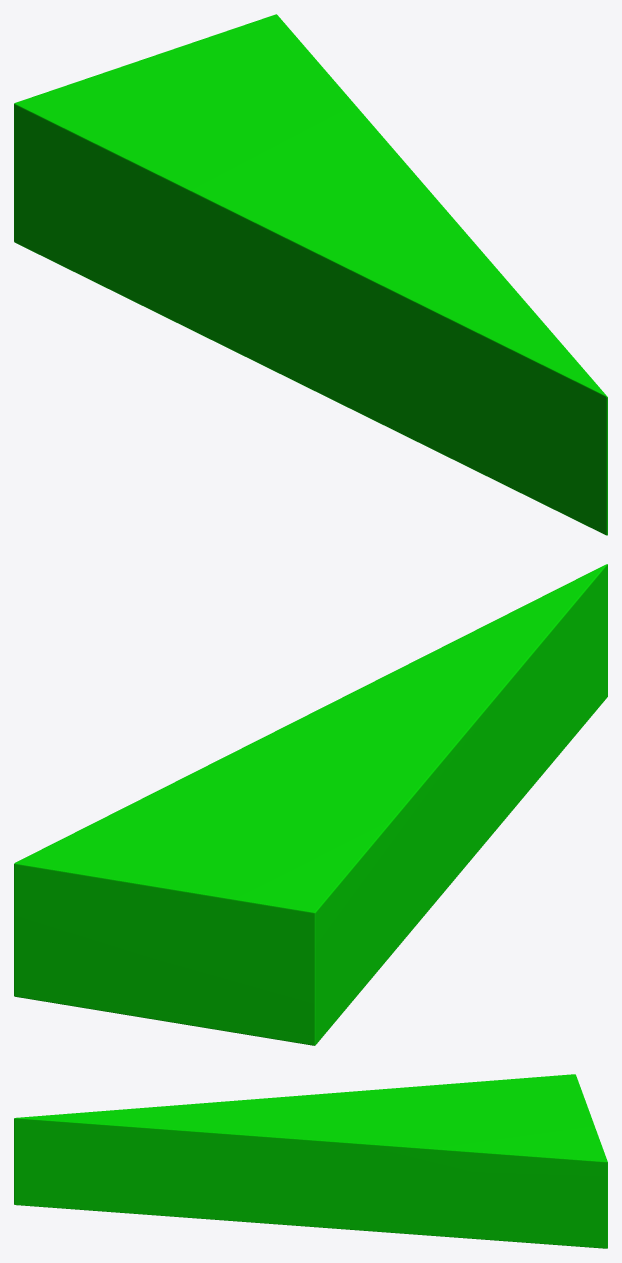
The model's file is Obstacle_03.fbx.
The picture shows the model from 3 angles, top to bottom: view 1: azimuth 30°, elevation 25°; view 2: azimuth 150°, elevation 25°; view 3: azimuth 270°, elevation 25°; orthographic projection. The views are drawn at different scales.
Parts seen in each view (by area): view 1: Obstacle_03; view 2: Obstacle_03; view 3: Obstacle_03.
Part boxes in pixels (left/top/right/bottom): Obstacle_03: left=14, top=14, right=607, bottom=535; Obstacle_03: left=14, top=564, right=607, bottom=1045; Obstacle_03: left=14, top=1074, right=607, bottom=1248.
Bounding box in the file's own units: 2.17 × 1 × 6.17.
